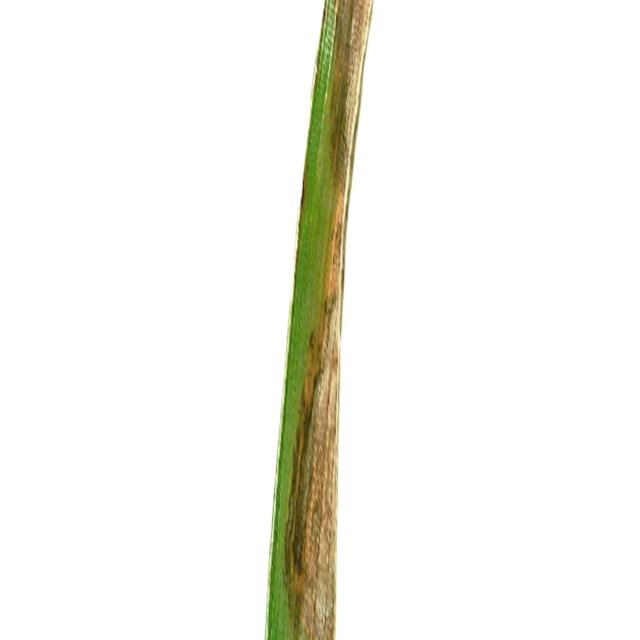Leaf scald: (192, 0, 452, 640)
